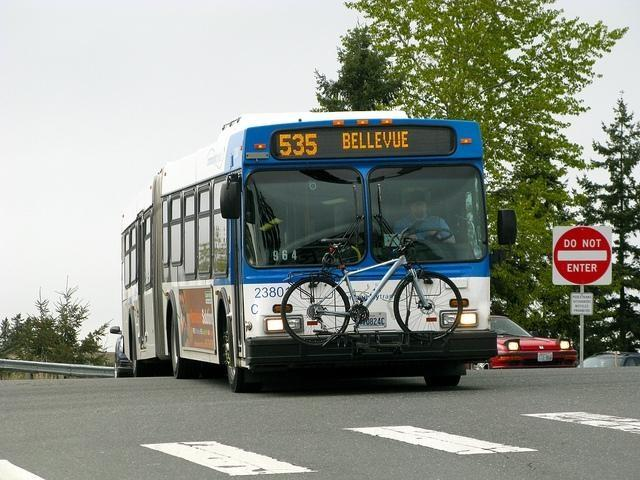bicycle: (283, 227, 462, 343)
bus: (111, 110, 518, 394)
car: (486, 313, 576, 368), (108, 326, 134, 378), (577, 351, 640, 367)
